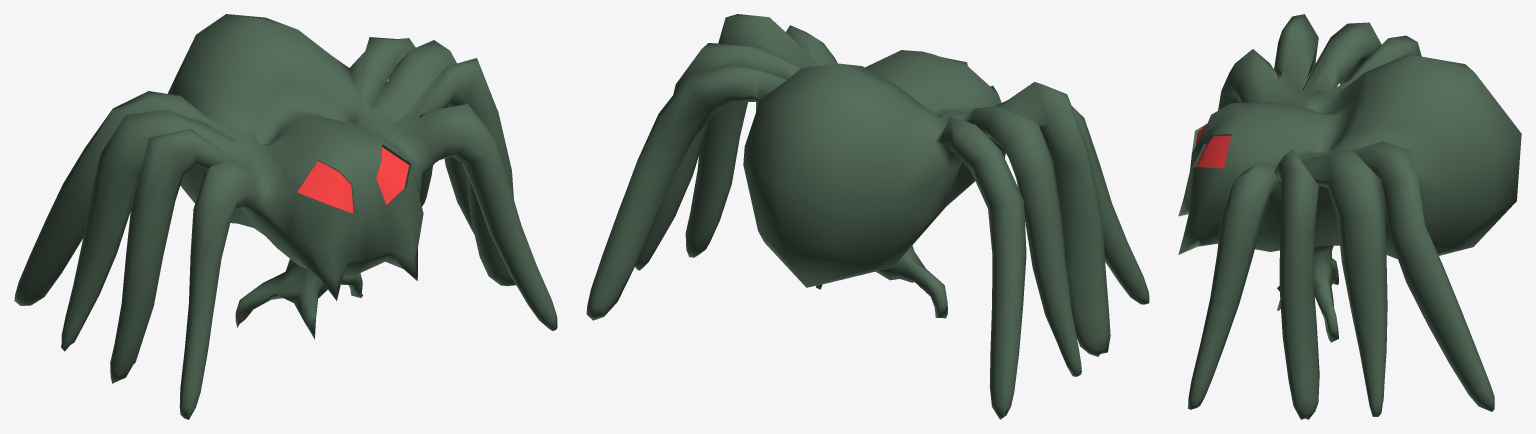
Rendered from CH_GA_prop_Brush_Spider_Hell.FBX.
3 renders of one model, left to right at view 1: azimuth 30°, elevation 25°; view 2: azimuth 150°, elevation 25°; view 3: azimuth 270°, elevation 25°, orthographic. The views are drawn at different scales.
Visible parts, largest first — view 1: CH_GA_prop_Brush_Spider_Hell; view 2: CH_GA_prop_Brush_Spider_Hell; view 3: CH_GA_prop_Brush_Spider_Hell.
Part boxes in pixels (x1,y1,x2,y2): CH_GA_prop_Brush_Spider_Hell: (14,14,557,419); CH_GA_prop_Brush_Spider_Hell: (586,14,1149,419); CH_GA_prop_Brush_Spider_Hell: (1178,14,1521,419).
Size of the model in its own units: 148 by 90.3 by 104.
